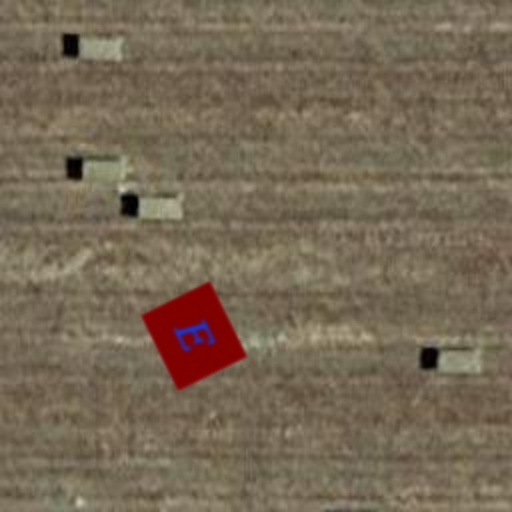rectangle: (136, 278, 252, 394)
